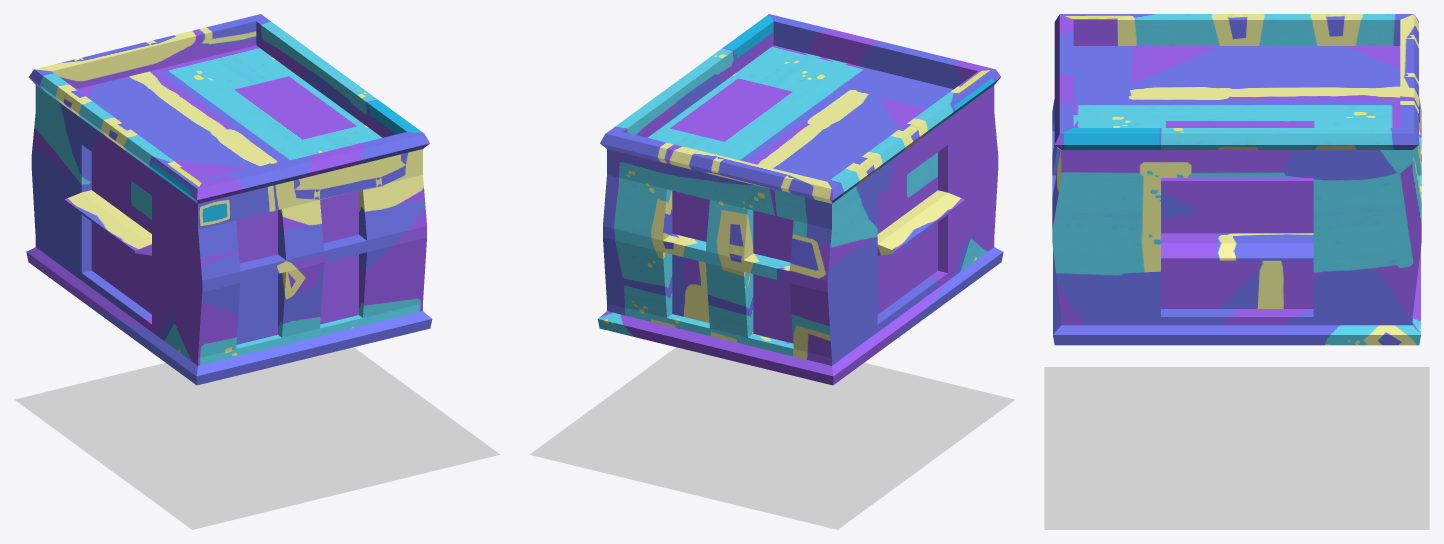
Rendered from building_T3-2.fbx.
3 renders of one model, left to right at view 1: azimuth 30°, elevation 25°; view 2: azimuth 150°, elevation 25°; view 3: azimuth 270°, elevation 25°, orthographic. The views are drawn at different scales.
Visible parts, largest first — view 1: Cube, Plane; view 2: Cube, Plane; view 3: Cube, Plane.
Boxes of the visible parts, x1,y1,x2,y2 form: Cube: [26, 14, 432, 385]; Plane: [15, 347, 500, 529]; Cube: [597, 14, 1003, 385]; Plane: [529, 347, 1014, 529]; Cube: [1052, 14, 1421, 345]; Plane: [1044, 367, 1429, 529].
Bounding box in the file's own units: 202 × 206 × 200.
